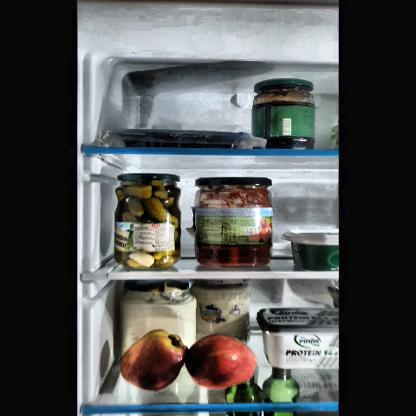apple: (120, 329, 188, 389), (187, 333, 258, 388)
cheese: (260, 309, 338, 370), (287, 232, 337, 269)
pickles: (115, 171, 179, 267)
tomato_paste: (193, 176, 272, 262)
